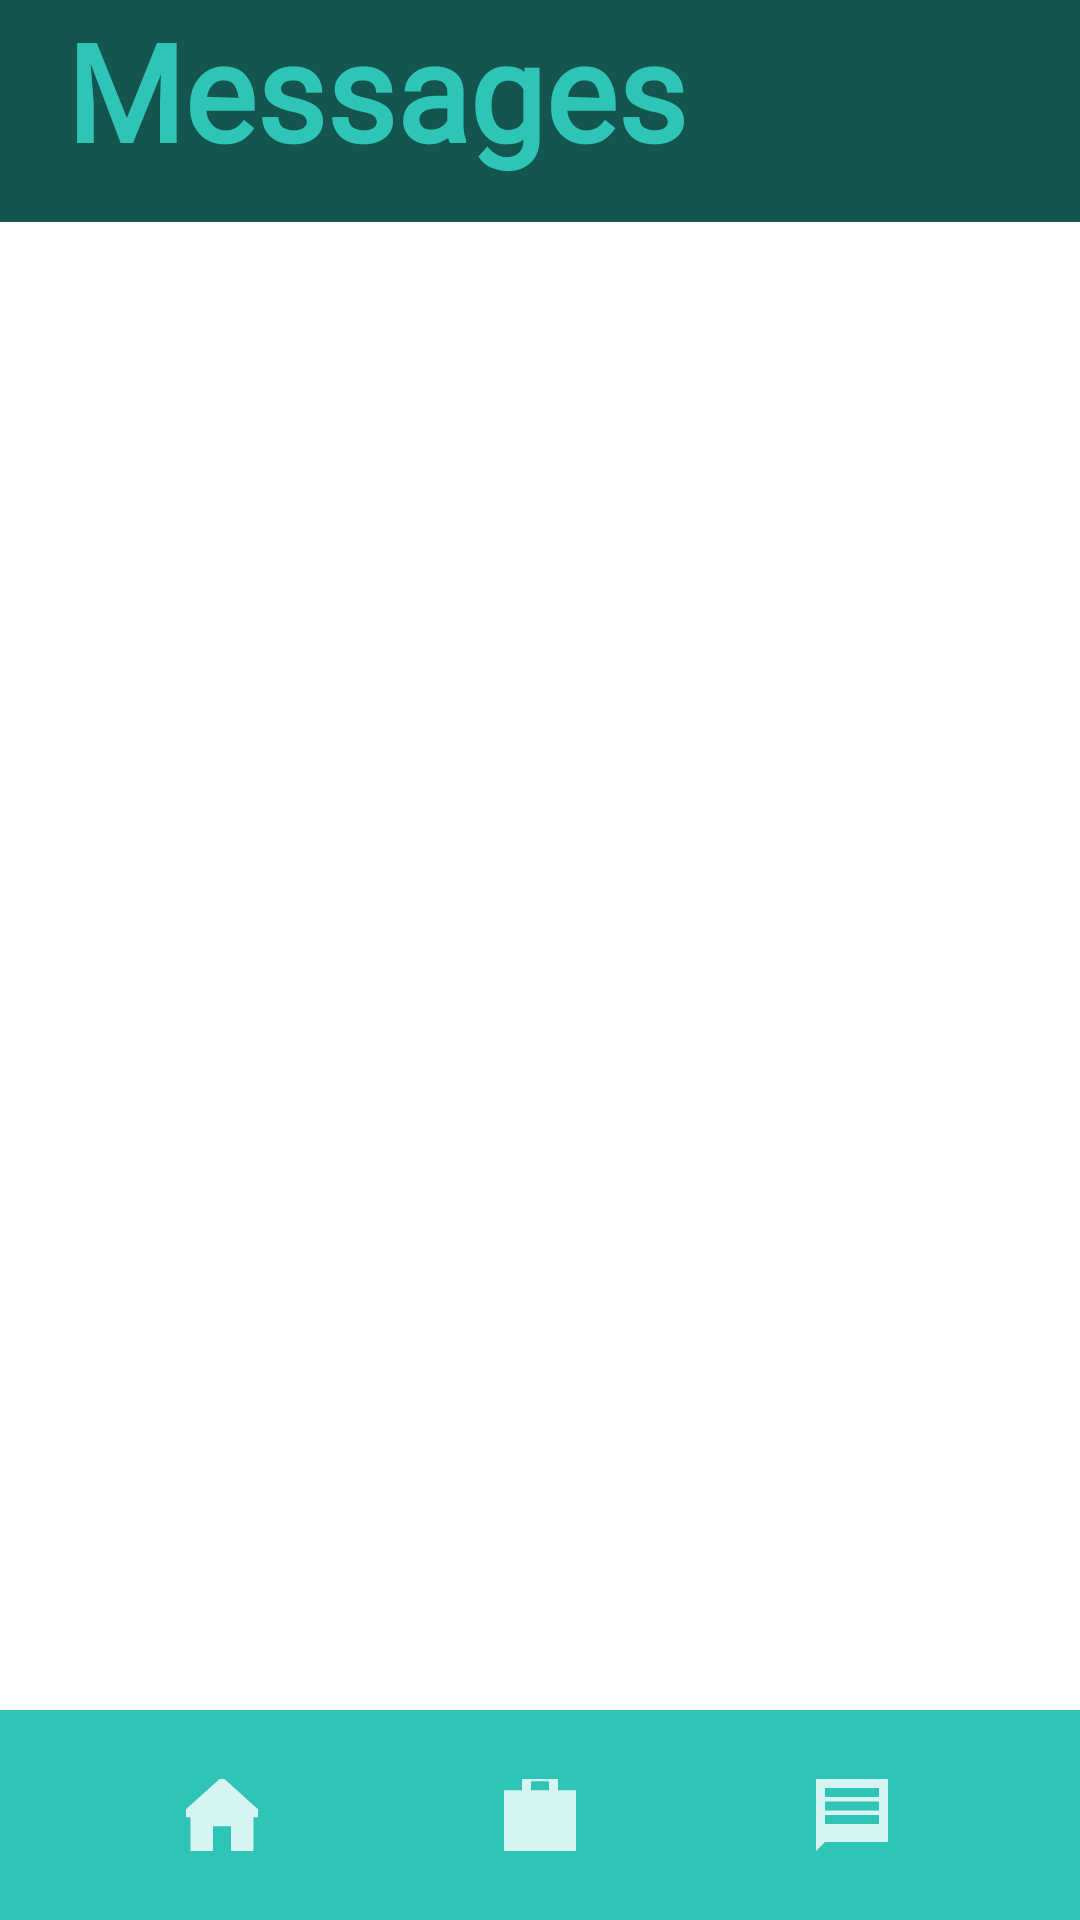

Point at icon controls on the screen. Image size 1080w x 1920h, points as (x=x, y=y).
home: (x=222, y=1815)
jobs: (x=540, y=1815)
messages: (x=852, y=1815)
